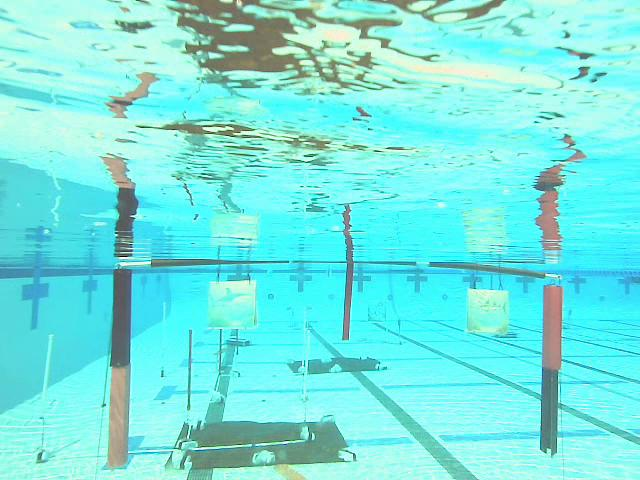black_poster: (186, 330, 196, 413)
divider: (344, 265, 352, 341)
left_gate_poster: (110, 269, 129, 468)
right_gate_poster: (541, 287, 560, 455)
shark: (206, 282, 256, 329)
swordfish: (466, 288, 510, 338)
white_poster: (36, 334, 55, 461), (159, 302, 167, 379)
